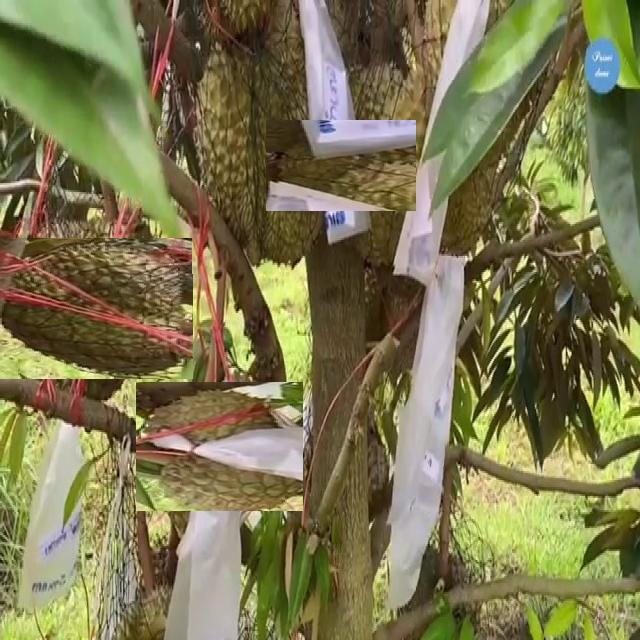durian: (192, 17, 335, 274), (5, 223, 178, 395), (298, 87, 456, 244), (146, 372, 294, 521), (416, 57, 505, 264)
